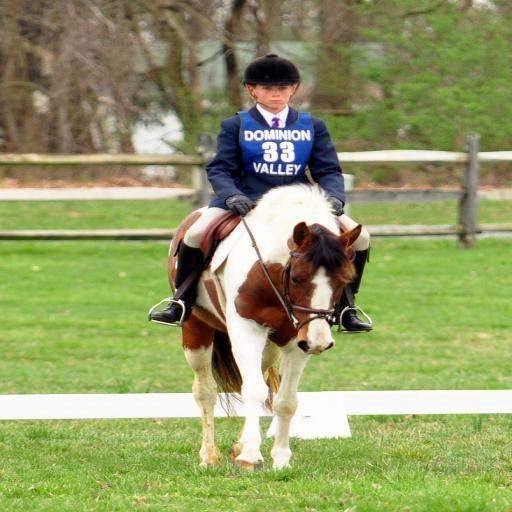horse: (164, 182, 362, 472)
